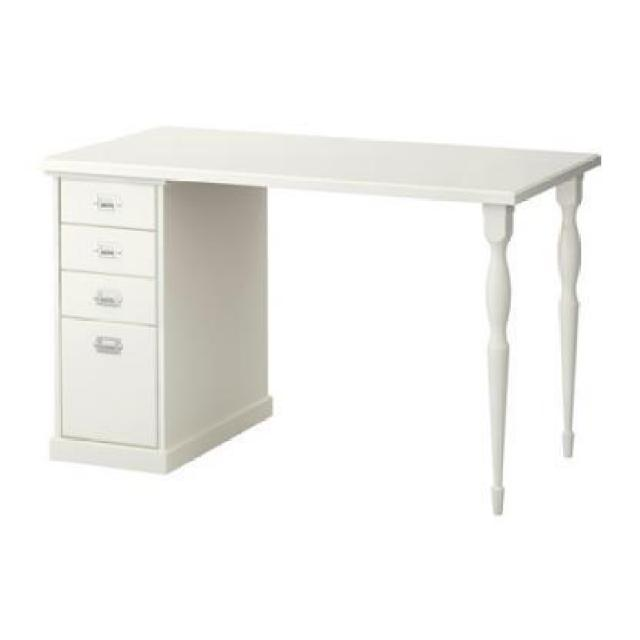tables: (40, 123, 602, 515)
